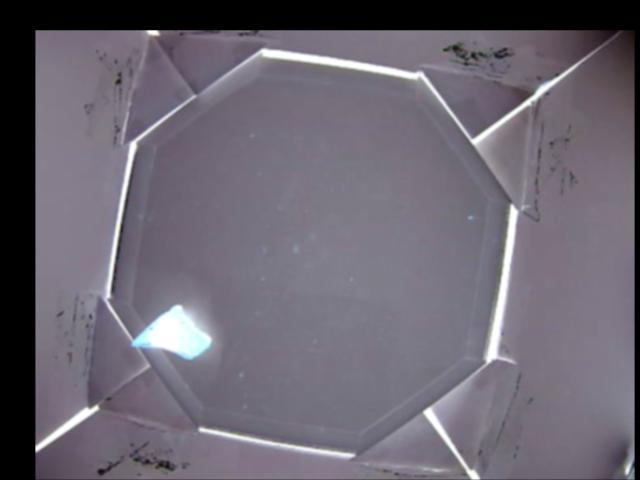Brisk: (129, 304, 212, 358)
